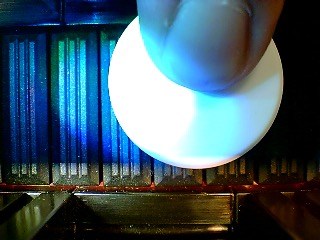BLANK: (107, 5, 284, 169)
